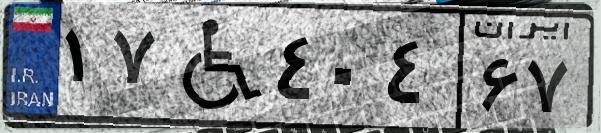0: (330, 28, 385, 110)
1: (57, 26, 110, 100)
4: (270, 28, 330, 110), (385, 28, 445, 110)
6: (475, 38, 525, 113)
7: (525, 38, 570, 115), (110, 28, 158, 98)
ژ (معلولین و جانبازان): (158, 12, 270, 120)
